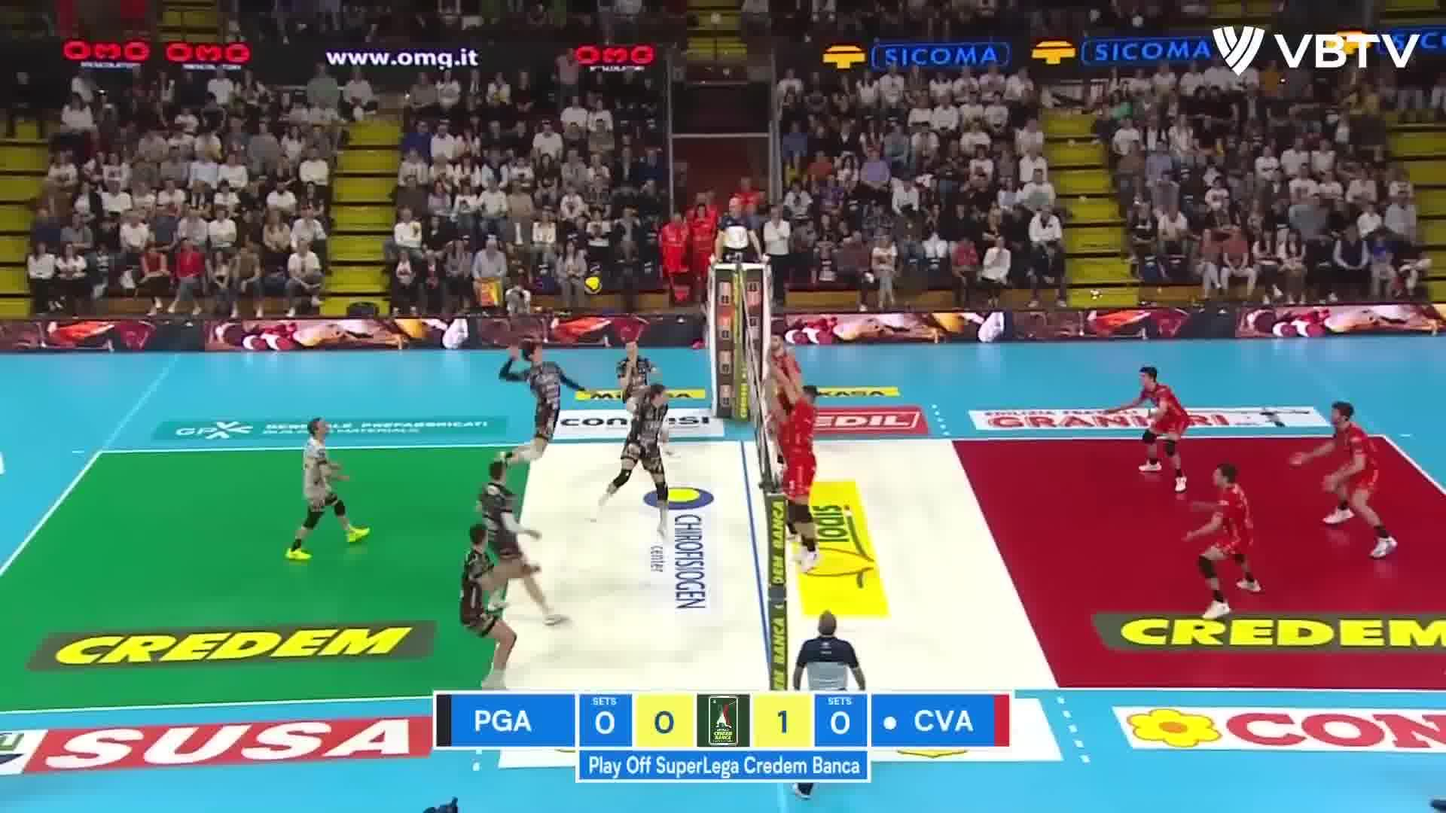balls: (582, 274, 603, 297)
